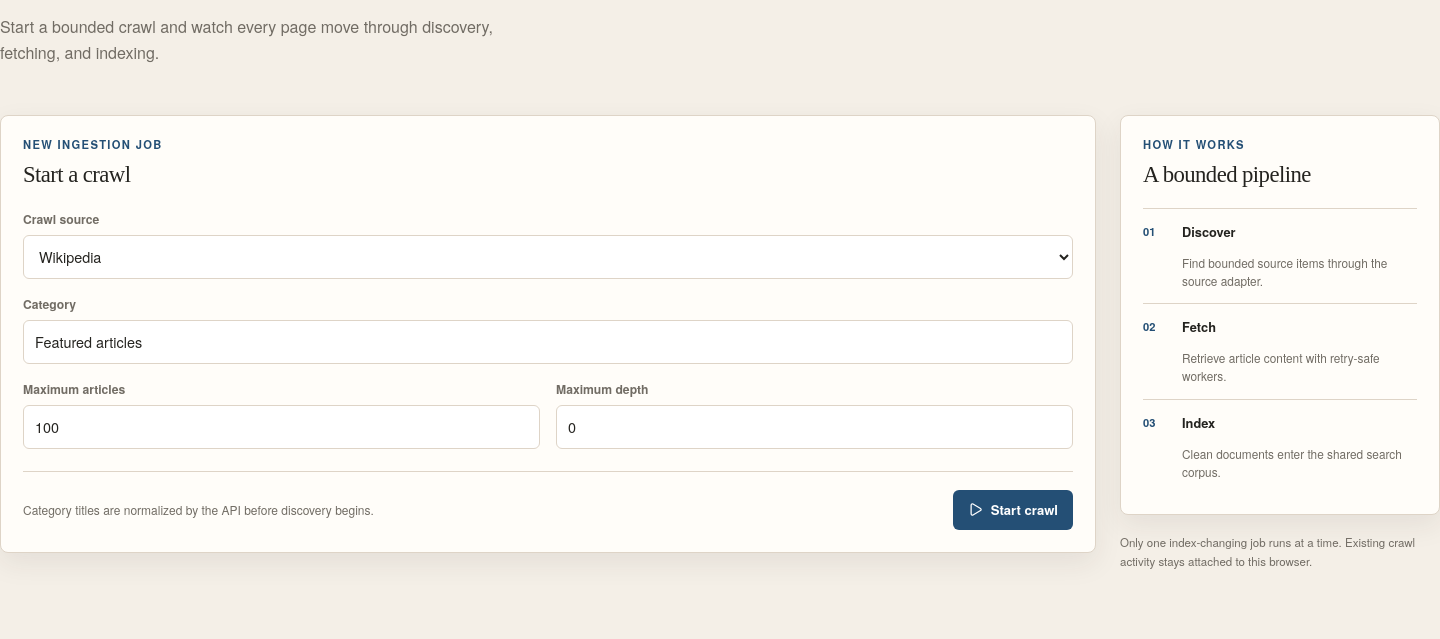
Test case: CrawlsPage › submits and monitors an RSS crawl through the shared item view
Select "RSS or Atom feed" in the dropdown labelled "Crawl source" at (548, 257), box x1=23 y1=235 x2=1073 y2=279
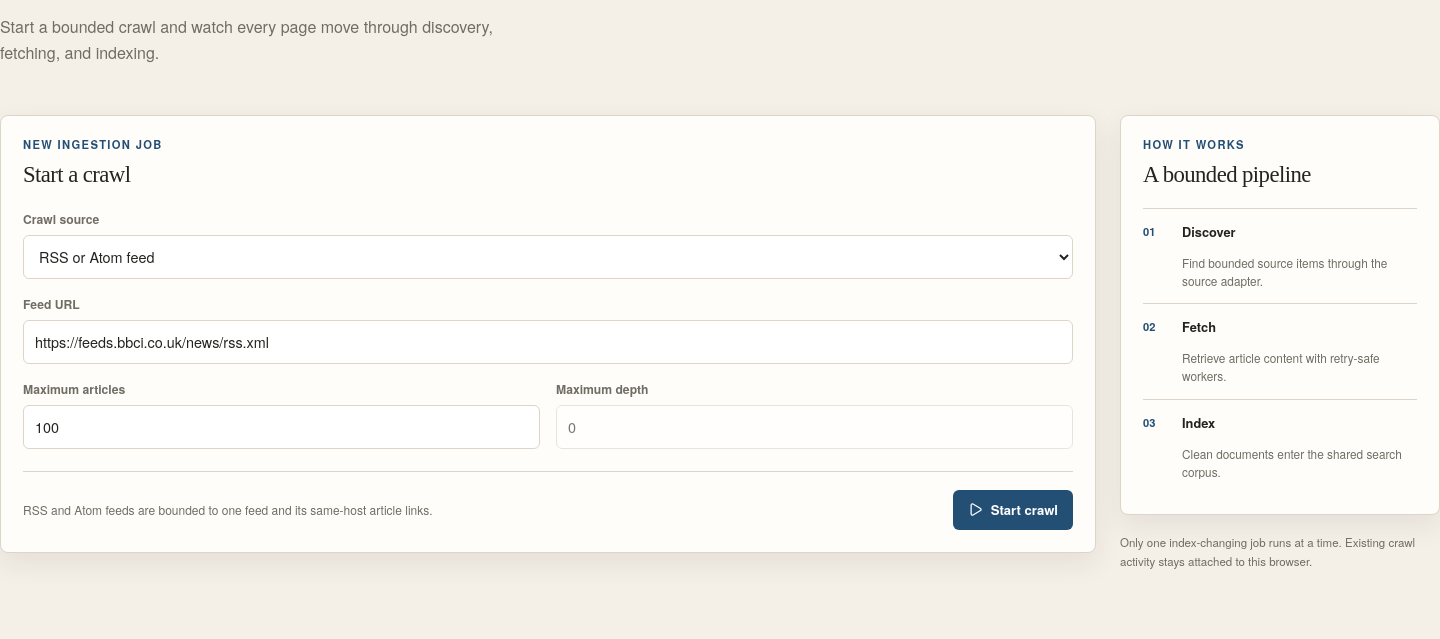
Click the button "Start crawl" at (1013, 510), box x1=953 y1=490 x2=1073 y2=530
(page scrolled)
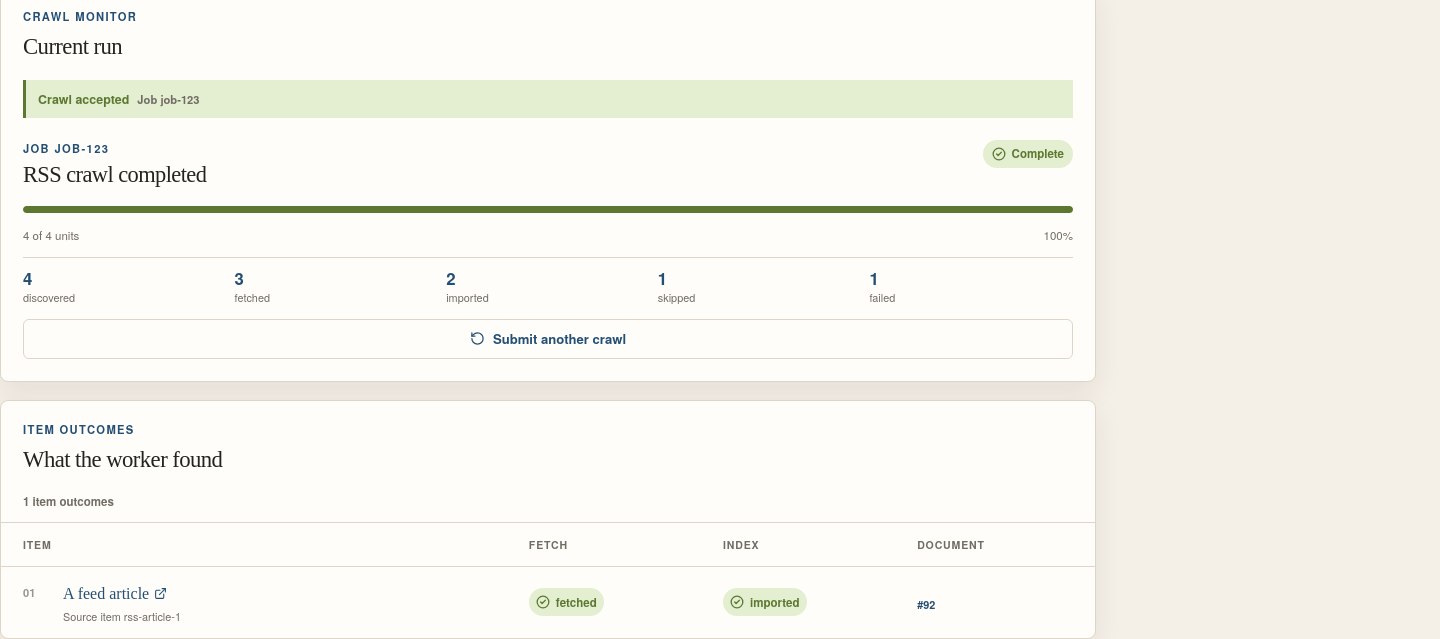
Expected: the heading "RSS crawl completed" is shown, x1=23 y1=162 x2=206 y2=188
Expected: the link "A feed article" is shown, x1=63 y1=584 x2=167 y2=604
